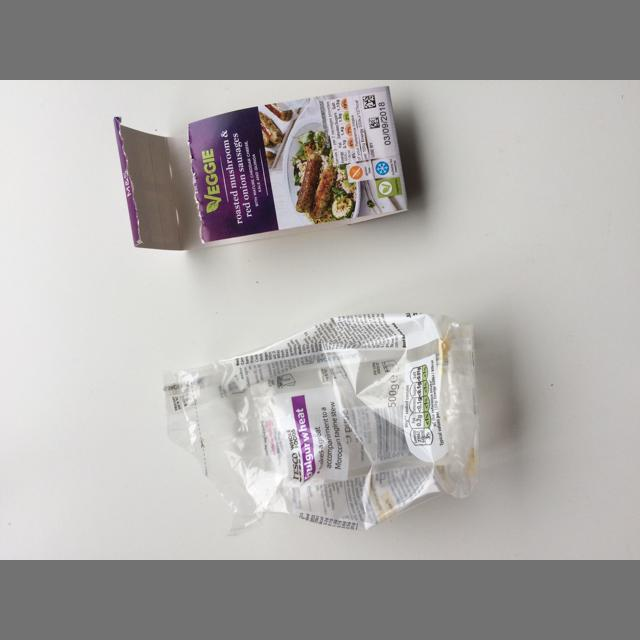litter: (162, 313, 480, 537), (113, 86, 408, 251)
